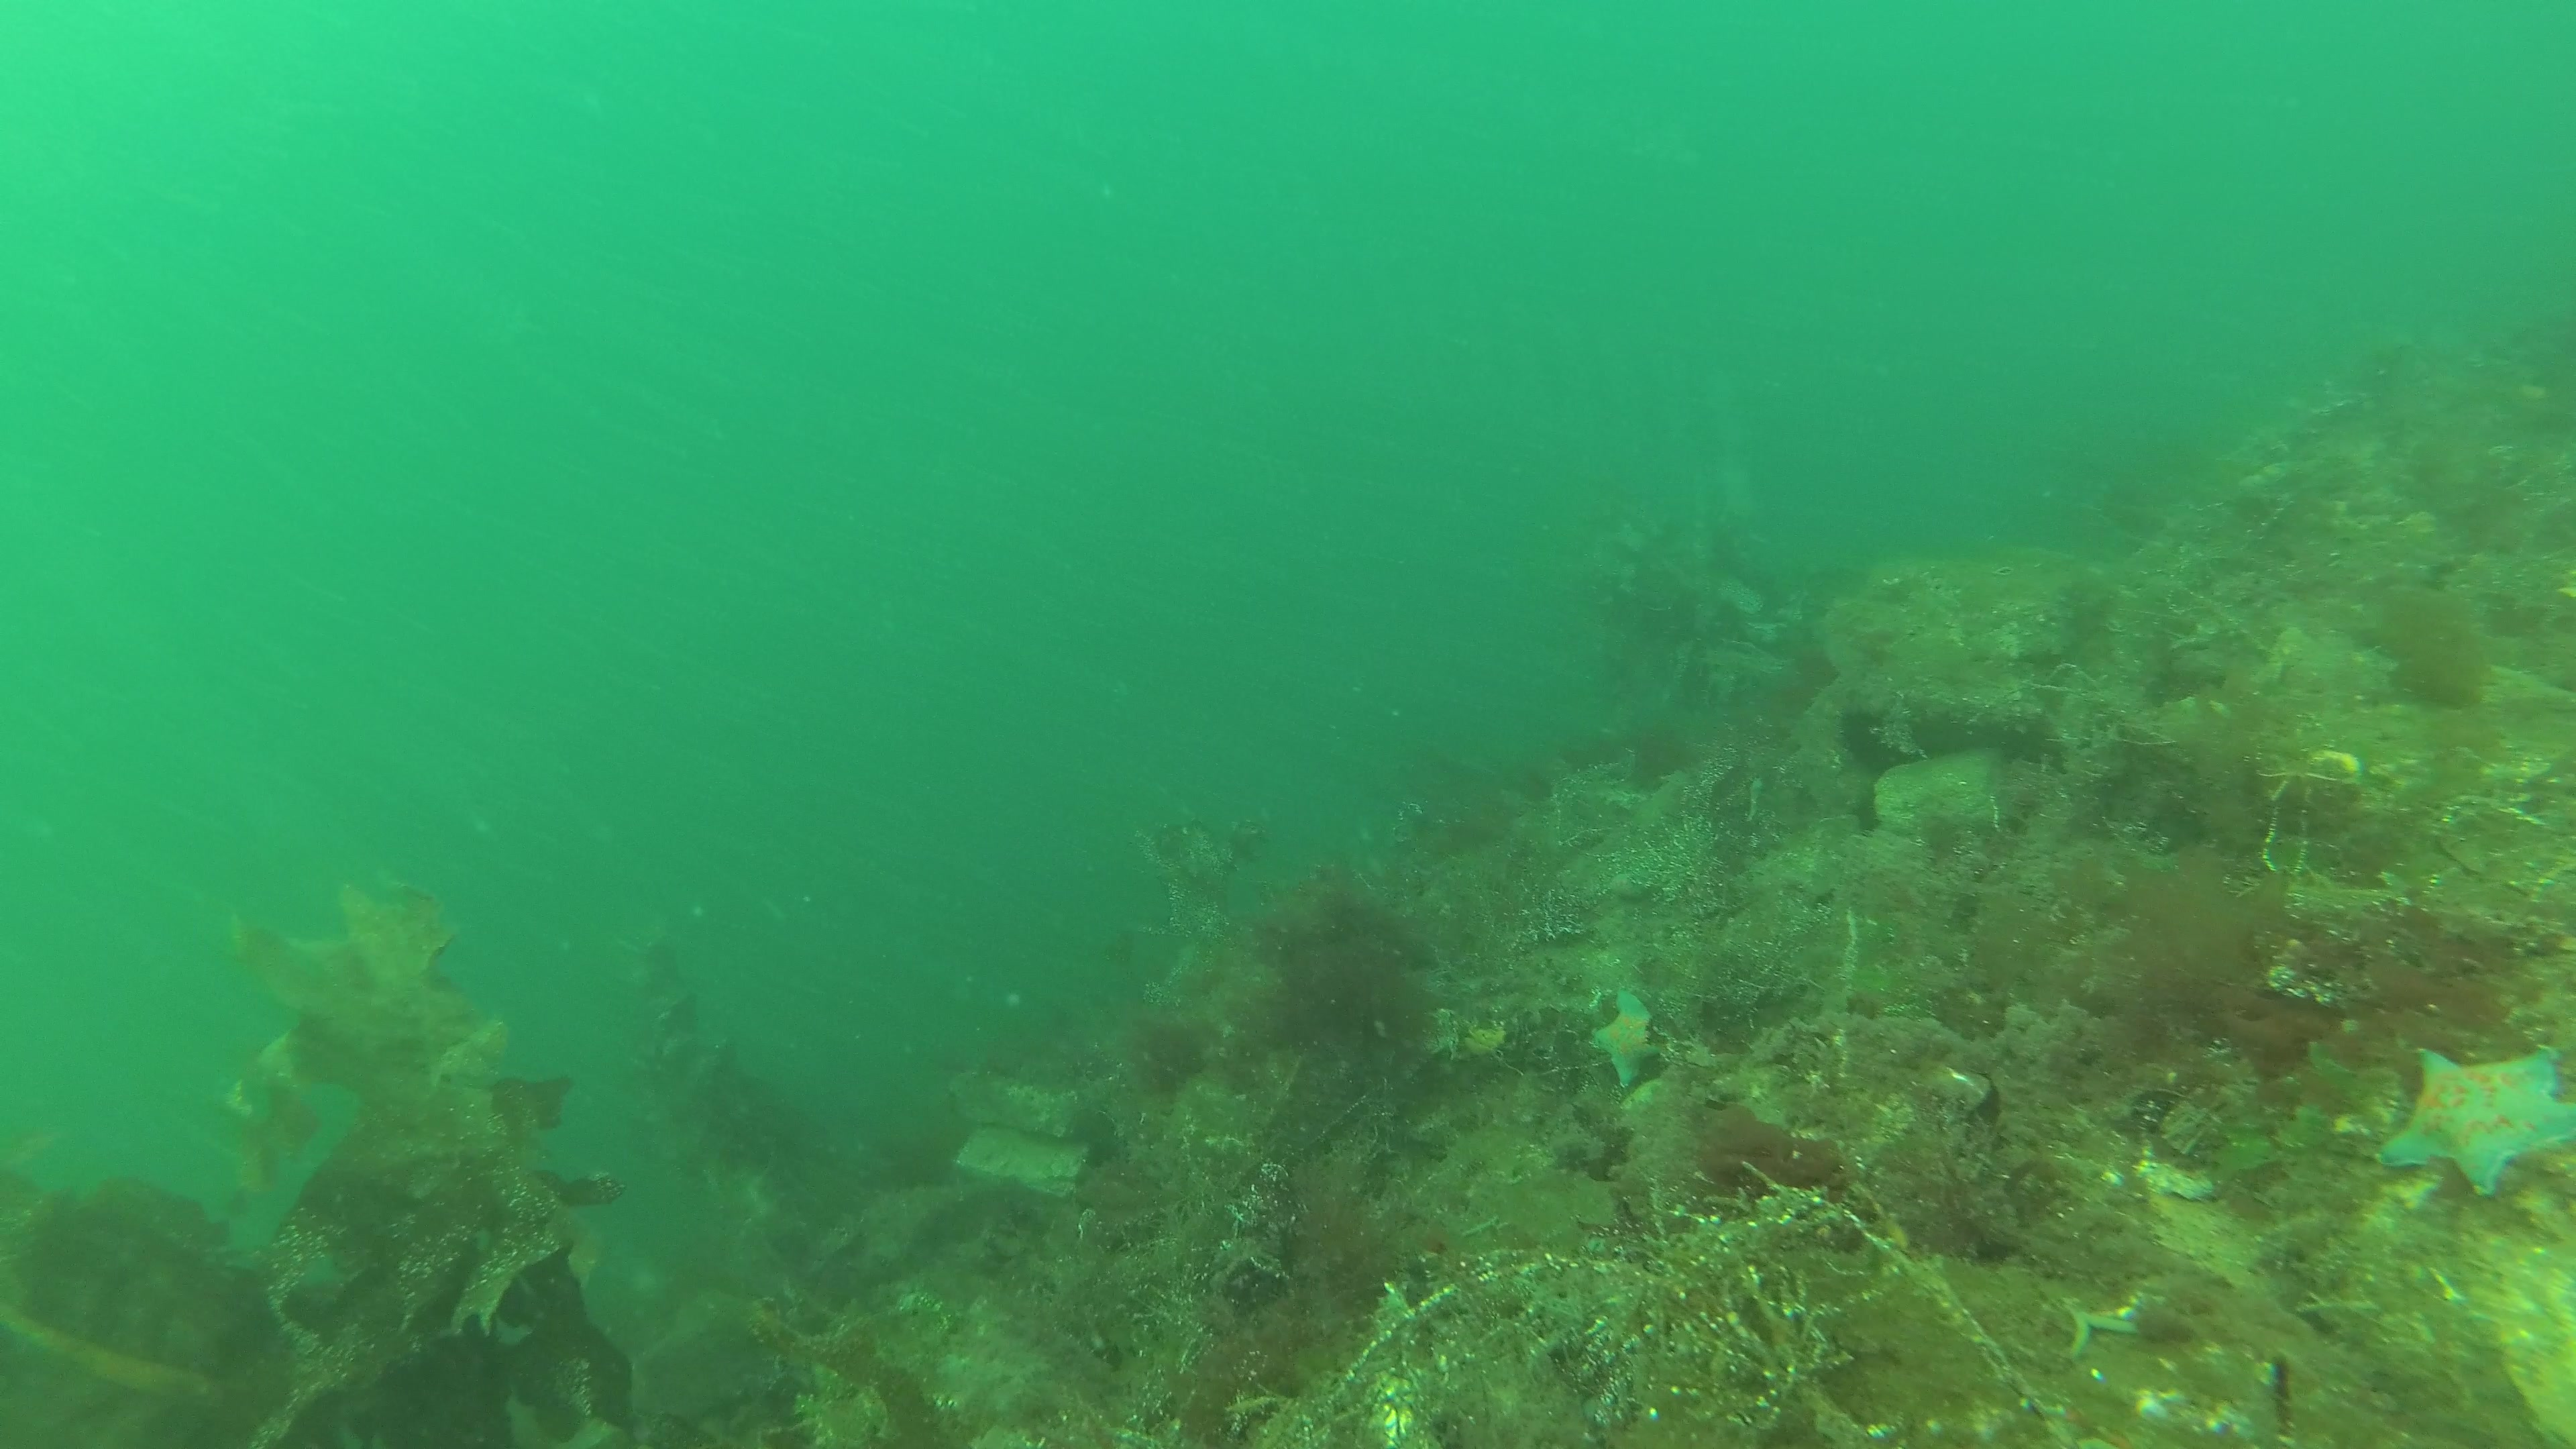starfish: (2376, 1039, 2576, 1198), (1592, 989, 1663, 1088)
